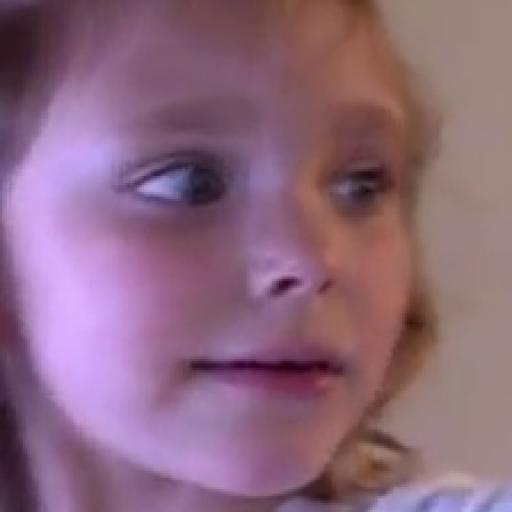Autism: (53, 1, 465, 496)
